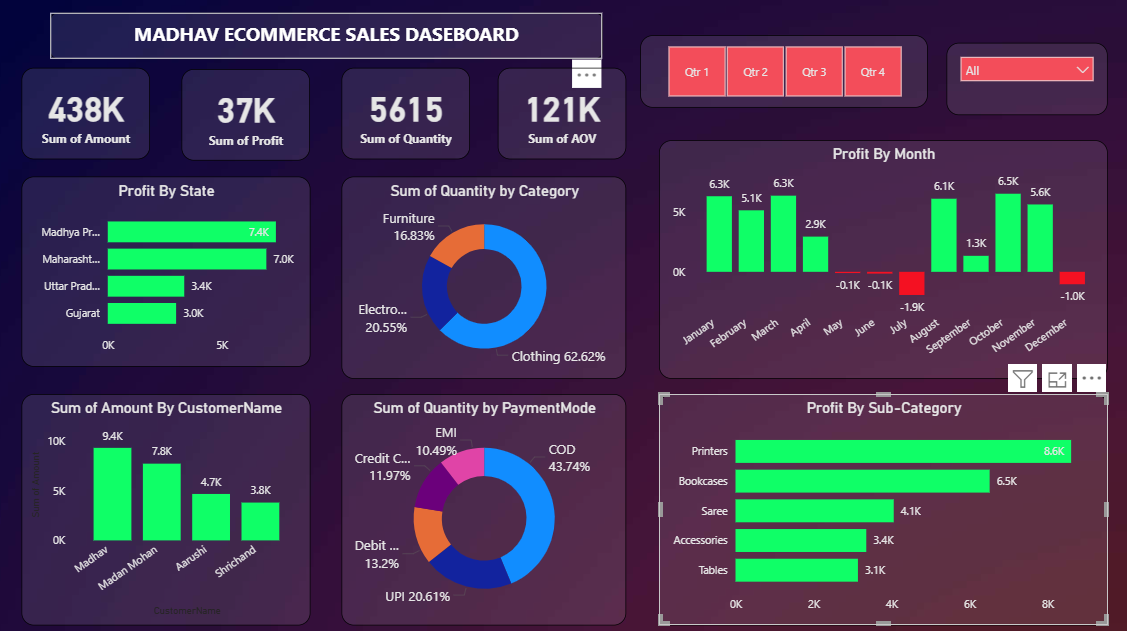

The page's visual inventory and layout, read from the dashboard file:
{"tool":"powerbi","page":{"name":"Page 1","canvas":[1280,720],"ordinal":0},"visuals":[{"type":"textbox","box":[63.4,15.5,622.5,52.1],"z":0},{"type":"columnChart","title":"Profit By Month","fields":{"Y":["Details.Profit"],"Category":["Orders.Order Date.Variation.Date Hierarchy.Month"]},"box":[749.3,159.2,505.6,269],"z":1000},{"type":"barChart","title":" Profit By Sub-Category","fields":{"Category":["Details.Sub-Category"],"Y":["Details.Profit"]},"box":[749.3,445.1,505.6,260.6],"z":2000},{"type":"donutChart","fields":{"Category":["Details.Category"],"Y":["Details.Quantity"]},"box":[391.5,200,321.1,228.2],"z":3000},{"type":"donutChart","fields":{"Category":["Details.PaymentMode"],"Y":["Details.Quantity"]},"box":[391.5,445.1,321.1,260.6],"z":4000},{"type":"card","fields":{"Values":["Details.Amount"]},"box":[31,77.5,145.1,102.8],"z":5000},{"type":"card","fields":{"Values":["Details.AOV"]},"box":[567.6,77.5,145.1,102.8],"z":6000},{"type":"card","fields":{"Values":["Details.Quantity"]},"box":[391.5,77.5,145.1,102.8],"z":7000},{"type":"card","fields":{"Values":["Details.Profit"]},"box":[211.3,78.9,145.1,102.8],"z":8000},{"type":"barChart","title":" Profit By State","fields":{"Category":["Orders.State"],"Y":["Details.Profit"]},"box":[31,200,325.4,214.1],"z":9000},{"type":"columnChart","title":"Sum of Amount By CustomerName","fields":{"Y":["Details.Amount"],"Category":["Orders.CustomerName"]},"box":[31,445.1,325.4,260.6],"z":10000},{"type":"slicer","fields":{"Values":["Orders.Order Date.Variation.Date Hierarchy.Quarter"]},"box":[728.2,40.8,323.9,81.7],"z":11000},{"type":"slicer","fields":{"Values":["Orders.State"]},"box":[1073.2,49.3,181.7,81.7],"z":12000}]}

Visuals, with their boxes in screenshot pixels (x1, y1, x2, y2), scaled from the page's 1280x720 canvas onto the 1127x631 screenshot:
textbox: select_region(56, 14, 604, 59)
"Profit By Month" columnChart: select_region(660, 140, 1105, 375)
" Profit By Sub-Category" barChart: select_region(660, 390, 1105, 618)
donutChart - Details.Category x Details.Quantity: select_region(345, 175, 627, 375)
donutChart - Details.PaymentMode x Details.Quantity: select_region(345, 390, 627, 618)
card - Details.Amount: select_region(27, 68, 155, 158)
card - Details.AOV: select_region(500, 68, 628, 158)
card - Details.Quantity: select_region(345, 68, 472, 158)
card - Details.Profit: select_region(186, 69, 314, 159)
" Profit By State" barChart: select_region(27, 175, 314, 363)
"Sum of Amount By CustomerName" columnChart: select_region(27, 390, 314, 618)
slicer - Orders.Order Date.Variation.Date Hierarchy.Quarter: select_region(641, 36, 926, 107)
slicer - Orders.State: select_region(945, 43, 1105, 115)
